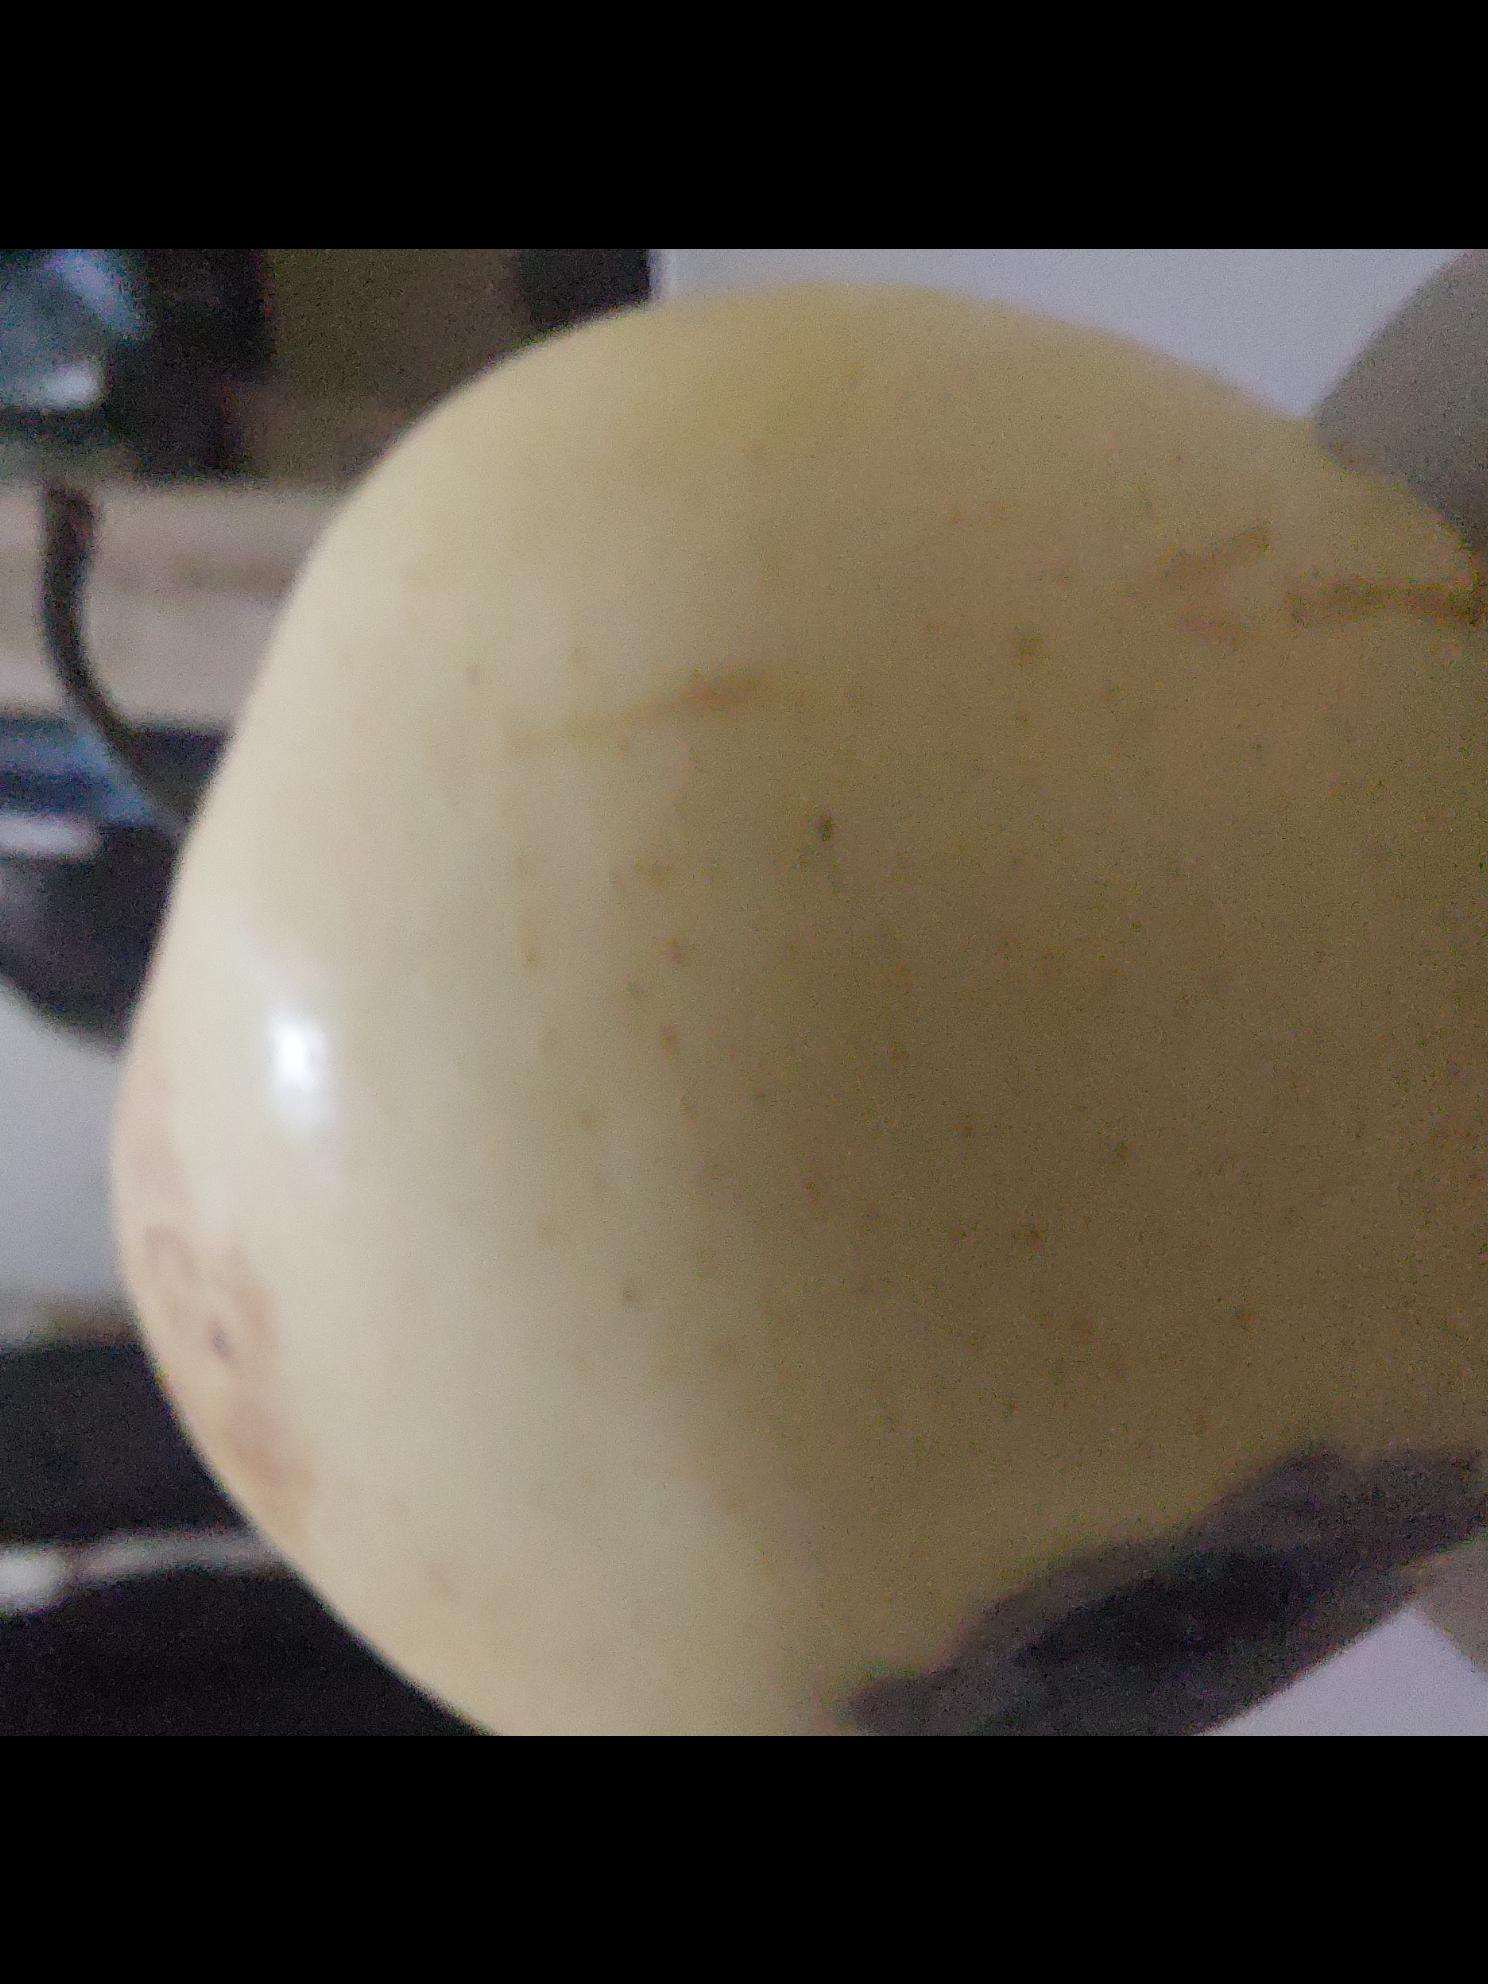Bad Pear: (105, 280, 1488, 1736)
